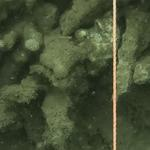dead: (6, 19, 108, 146)
